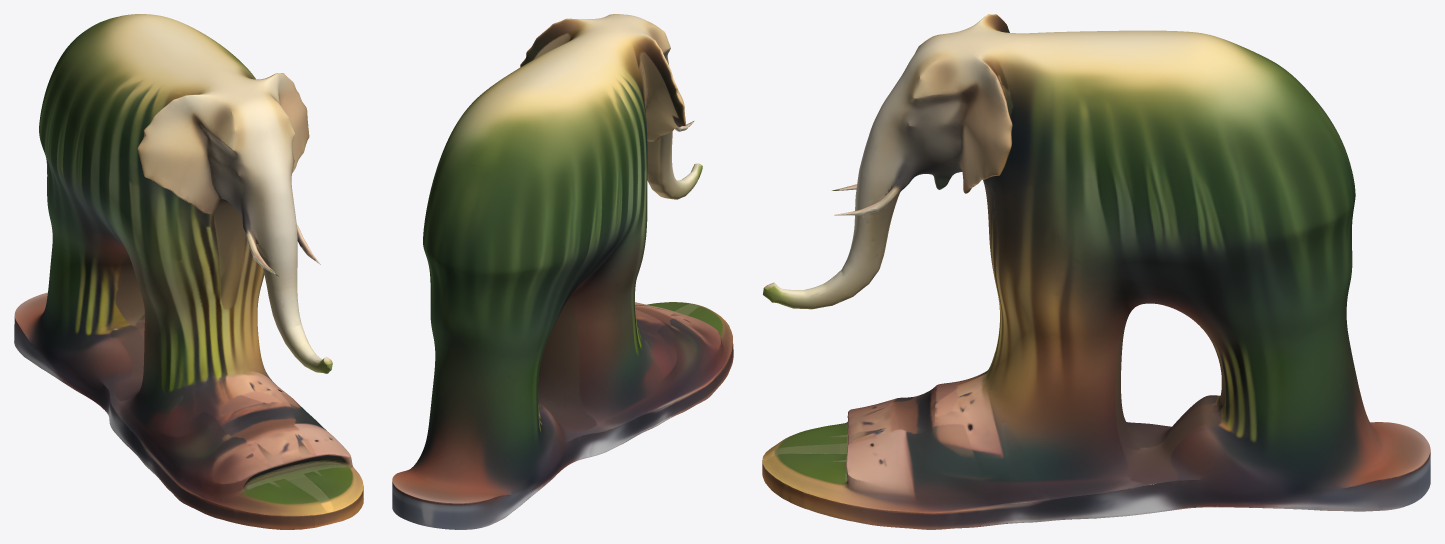
3 views of the same model, side by side, from view 1: azimuth 30°, elevation 25°; view 2: azimuth 150°, elevation 25°; view 3: azimuth 270°, elevation 25° (orthographic). The views are drawn at different scales.
Visible parts, largest first — view 1: Object_2; view 2: Object_2; view 3: Object_2.
Part boxes in pixels (x1=…): Object_2: x1=14, y1=14, x2=363, y2=529; Object_2: x1=392, y1=14, x2=733, y2=529; Object_2: x1=762, y1=14, x2=1430, y2=529.
Size of the model in its own units: 0.6473 by 1.4 by 1.9.
Materials: 1 (1 with a texture image).
